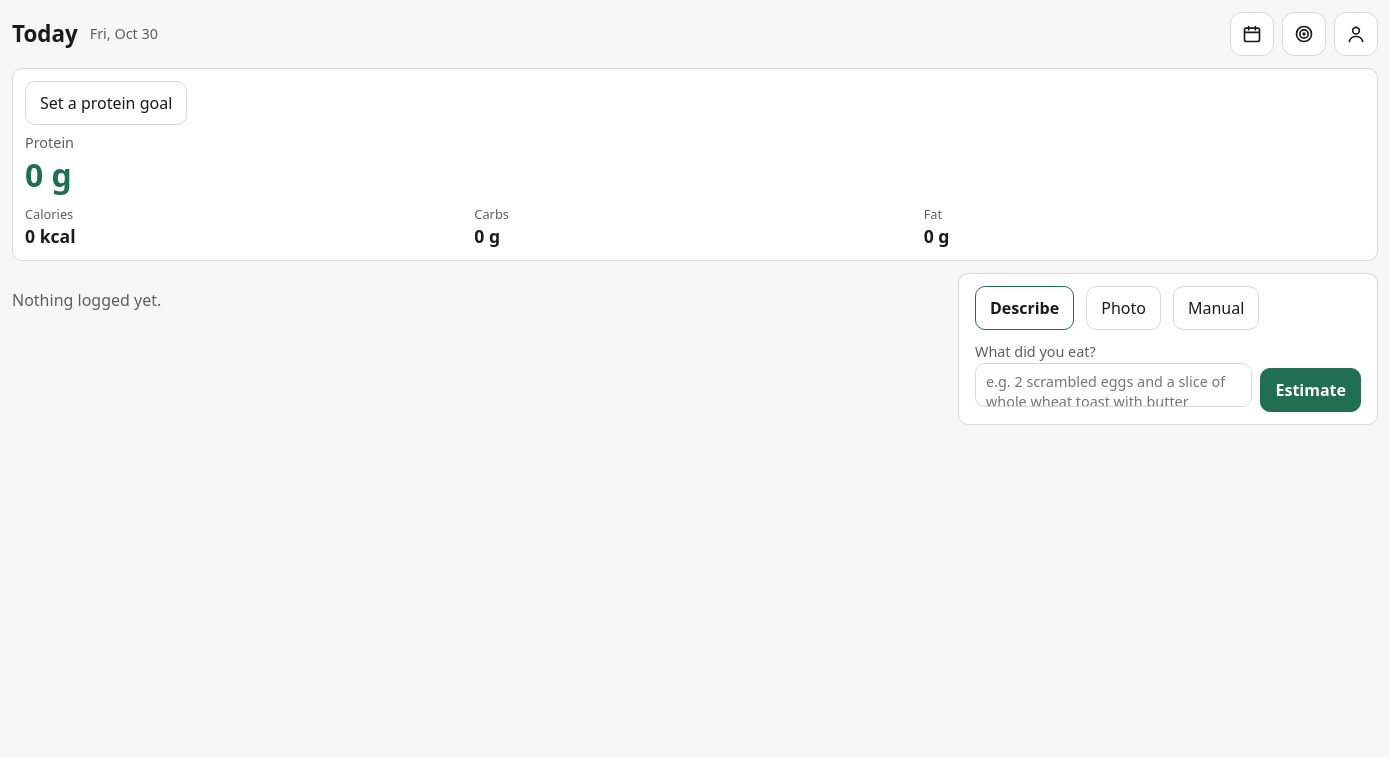
Test: Composer: describe on Today › (e) Confirm logs the item, closes the card, clears and focuses the field
This screenshot has width=1390, height=757.
Type "1 medium banana" into the text box labelled "What did you eat?". click: (1114,385)
box: [975,363,1252,407]
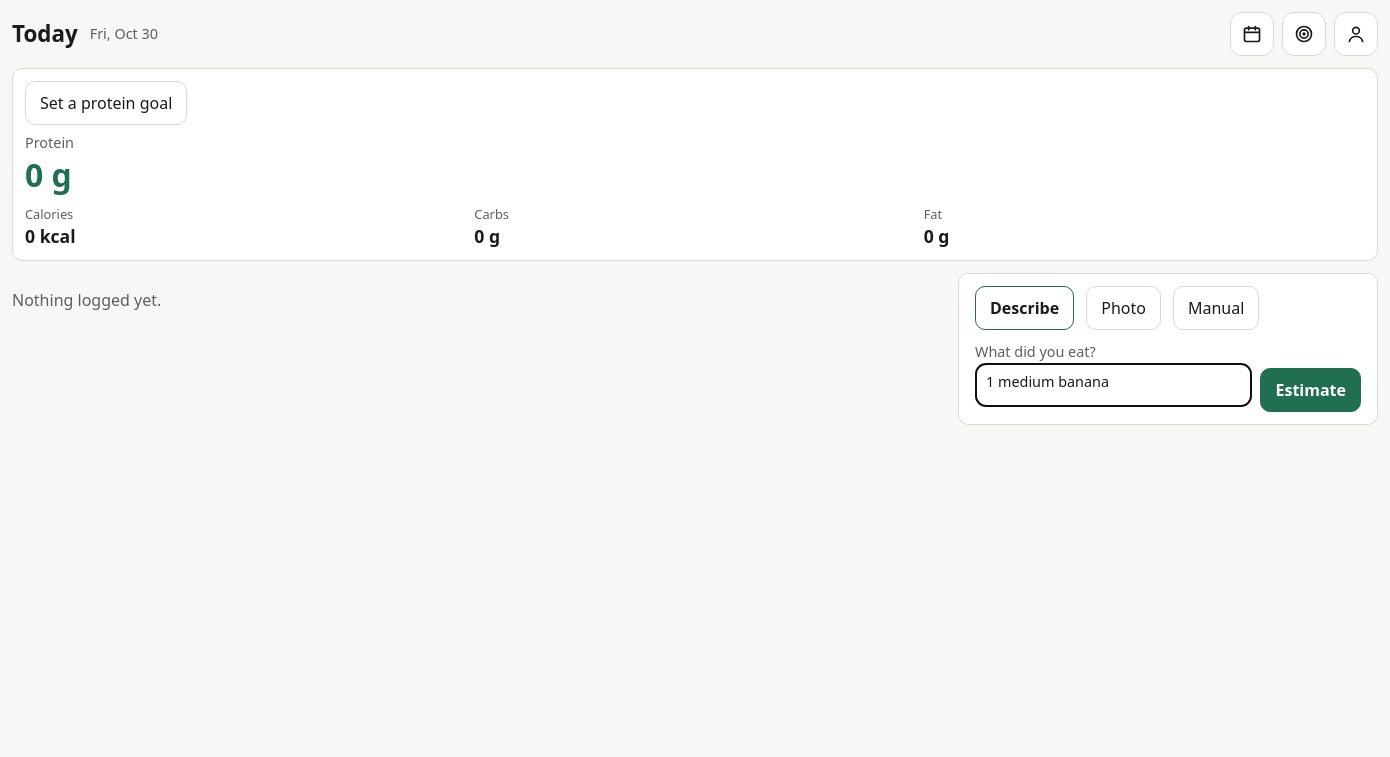
Click the button "Estimate". click: (1311,390)
box: [1260,368,1361,412]
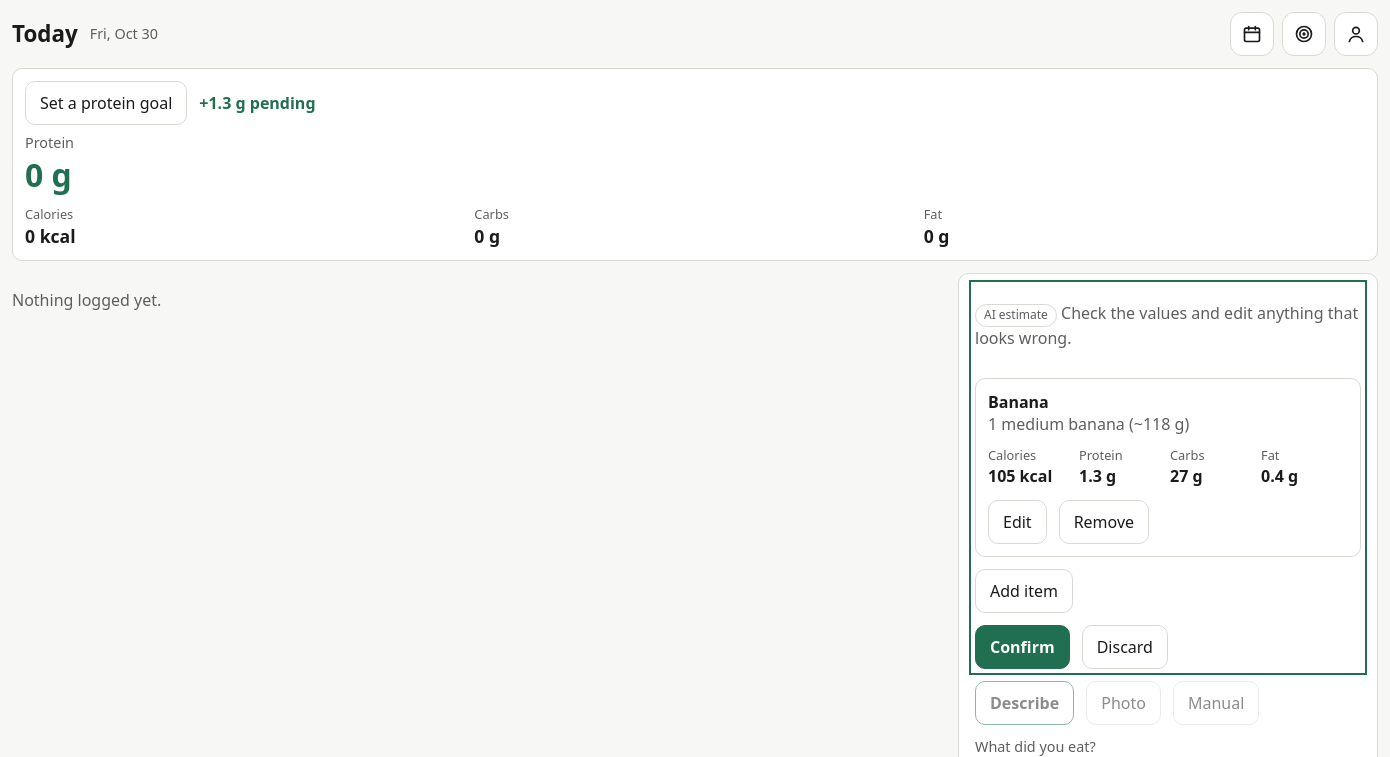
Click the button "Confirm". click: (1022,647)
box: [975,625,1070,669]
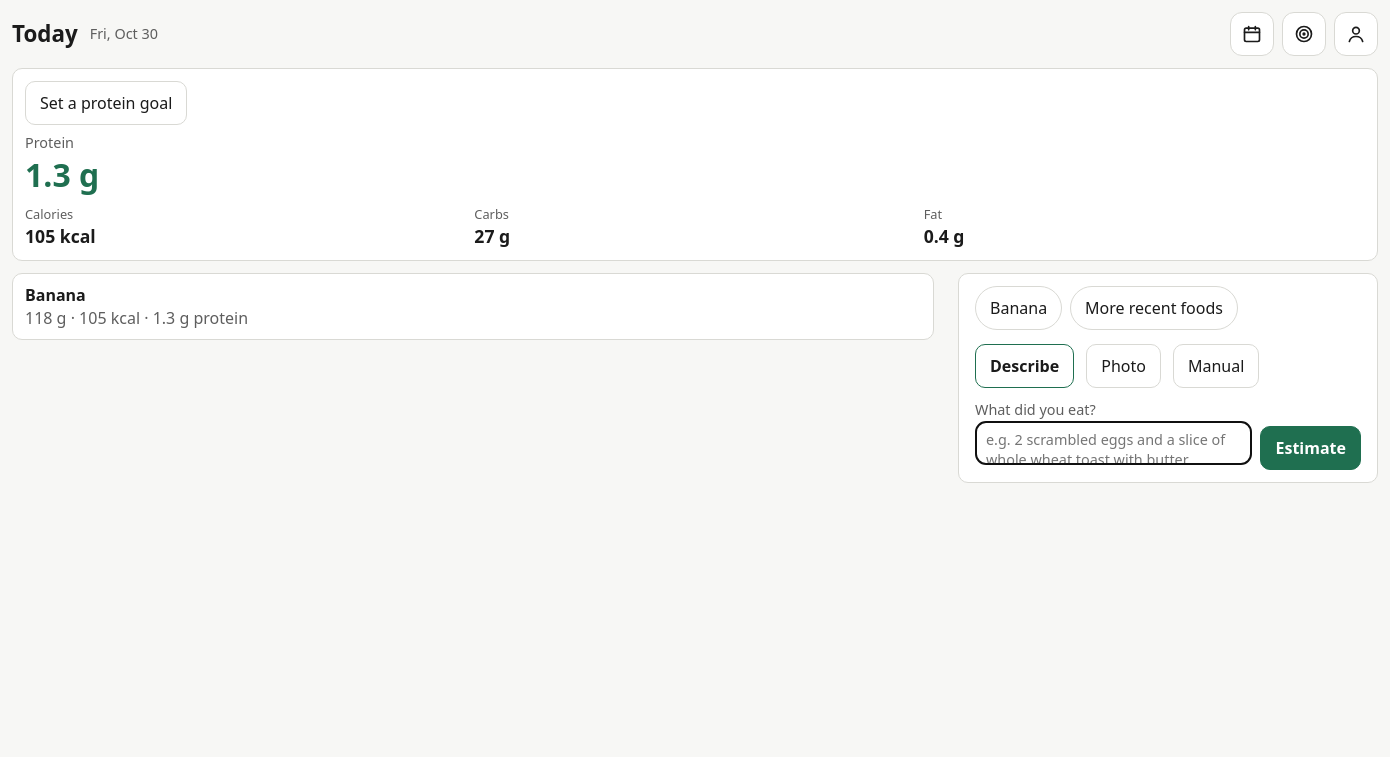
Expected: the text "Banana" is shown, [25,284,86,307]
Expected: the text box labelled "What did you eat?" is empty, [975,421,1252,465]
